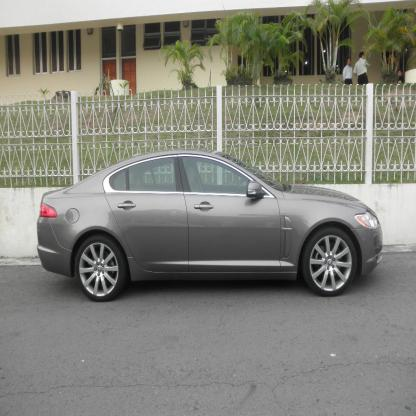Car: (36, 147, 383, 302)
